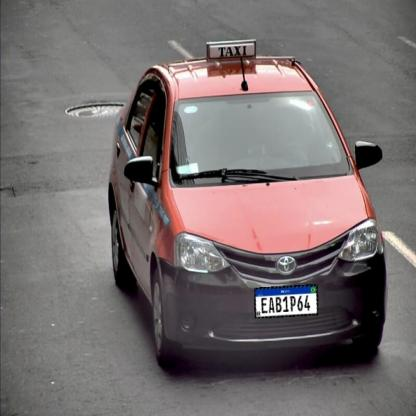PlacaM: (255, 284, 318, 318)
